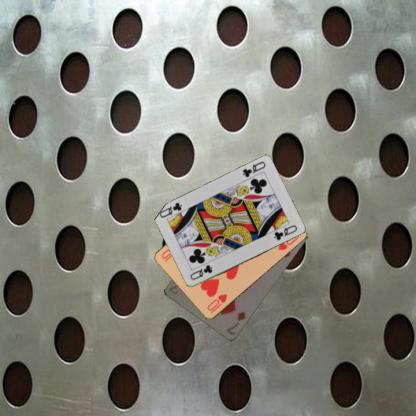10h: (205, 292, 228, 315)
7d: (224, 309, 247, 337)
Qc: (187, 262, 214, 282), (240, 159, 267, 178)
